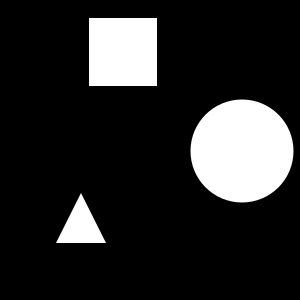circle: (89, 18, 157, 86)
rectangle: (190, 100, 294, 202)
triangle: (56, 193, 106, 243)
